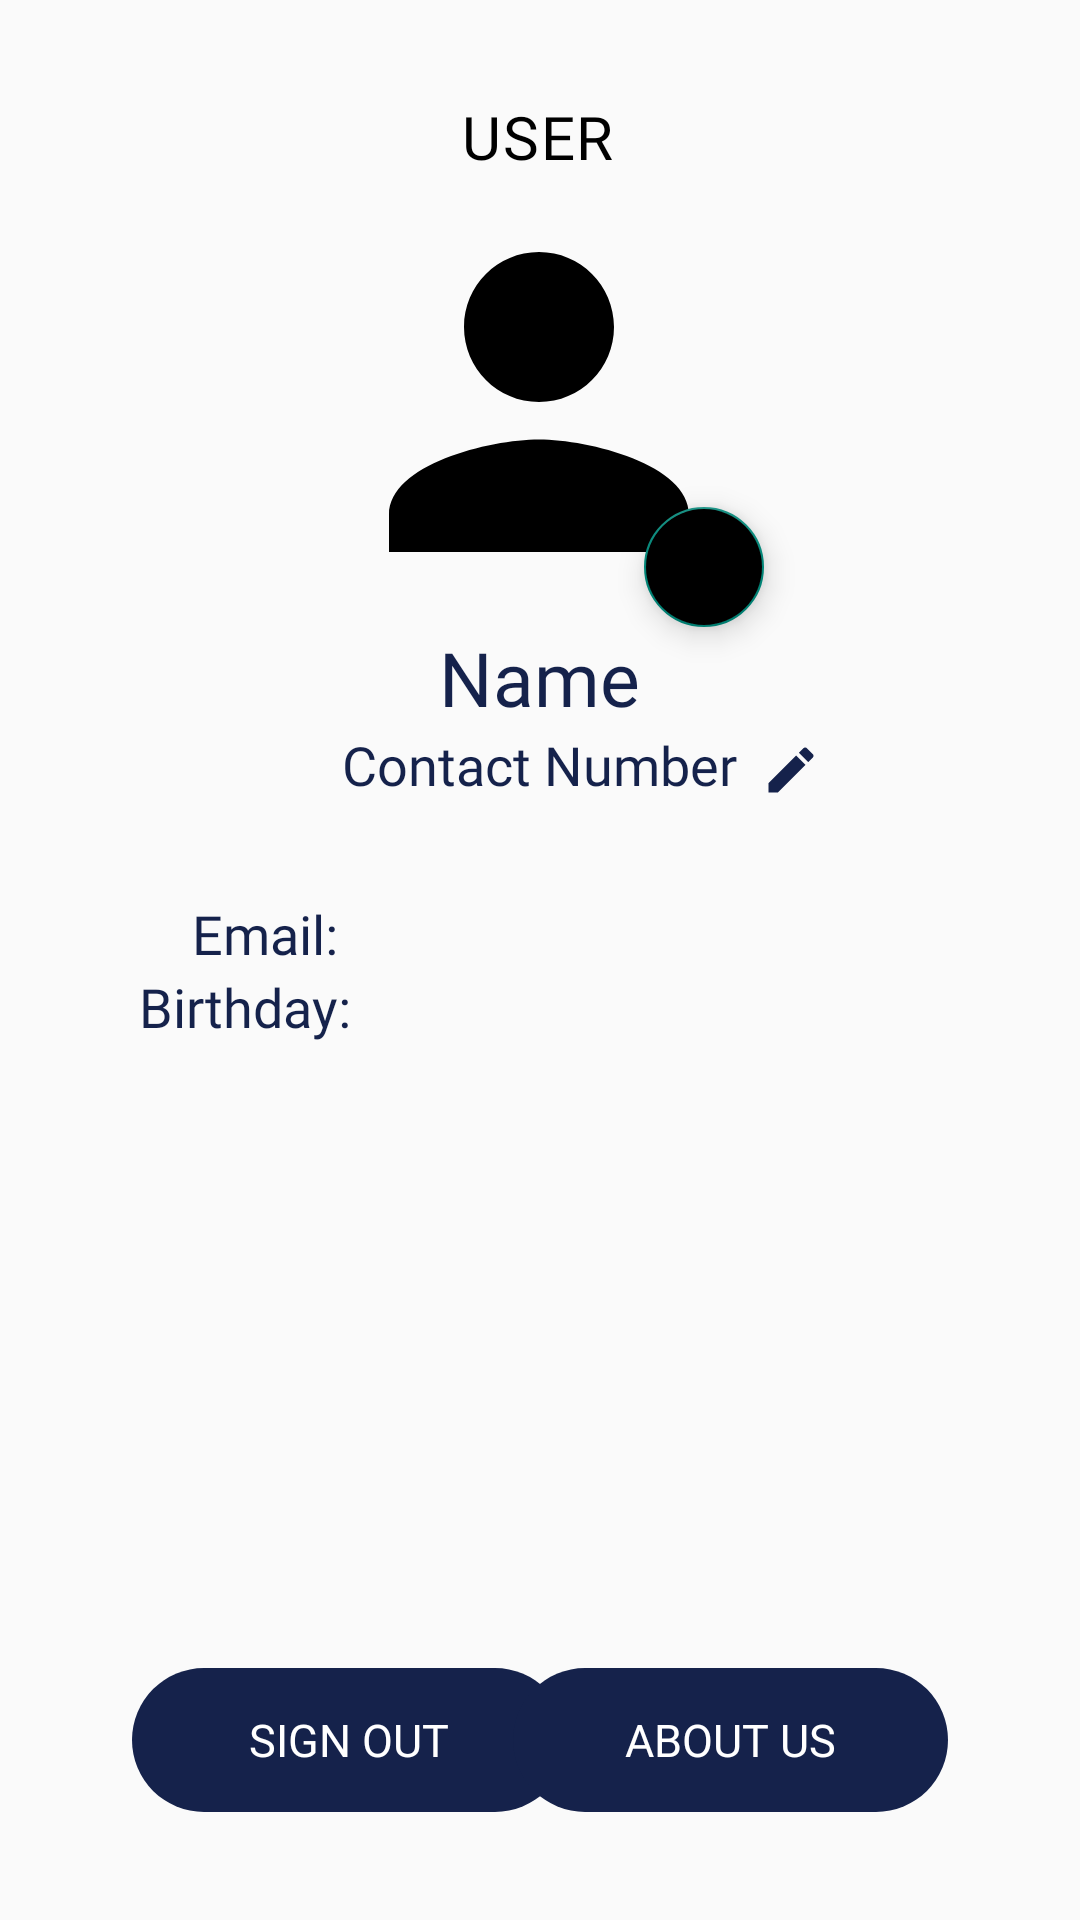

Where to tap for icons on this 1080x1920 app screen, as point (x, y):
edit: point (791, 770)
